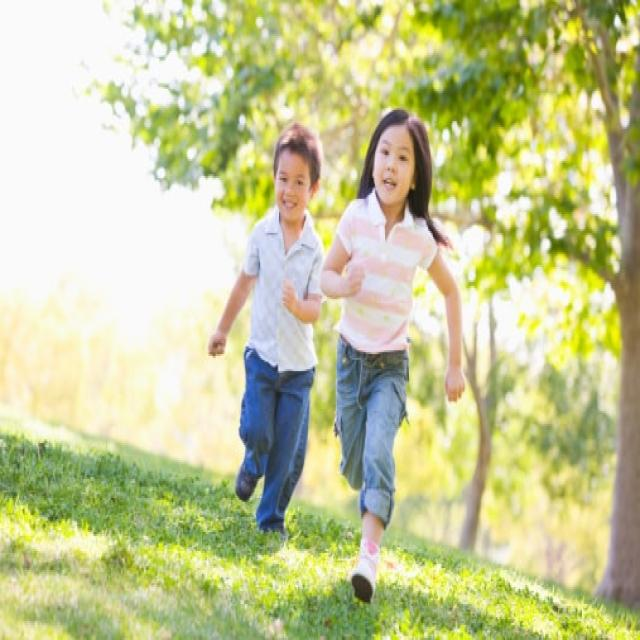Person: (321, 110, 463, 603), (209, 120, 325, 536)
